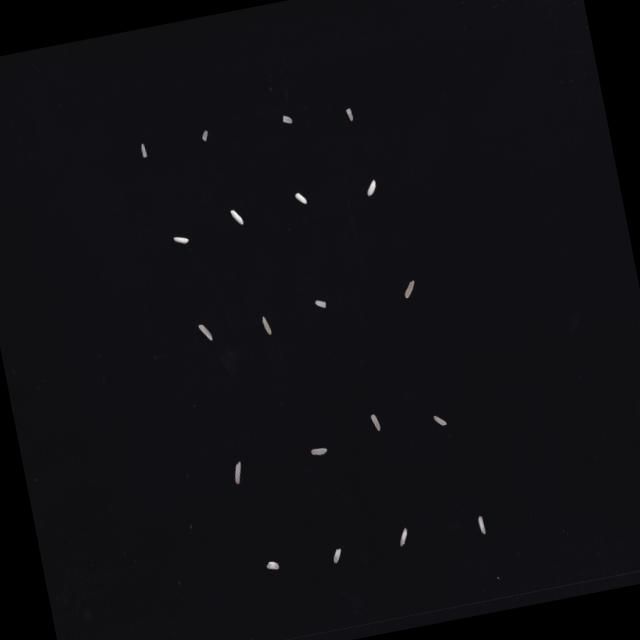Chalky: (397, 528, 409, 546), (331, 549, 342, 563), (477, 516, 485, 535), (266, 560, 278, 570)
Not: (198, 322, 212, 342), (232, 462, 244, 484), (402, 280, 416, 298), (230, 208, 242, 226), (261, 316, 271, 336), (369, 414, 380, 432), (432, 414, 447, 427), (172, 234, 188, 246), (364, 180, 376, 196), (294, 192, 306, 206), (310, 447, 326, 457), (314, 299, 326, 309), (345, 108, 353, 121), (282, 114, 292, 124), (200, 130, 208, 142), (140, 143, 146, 158)
